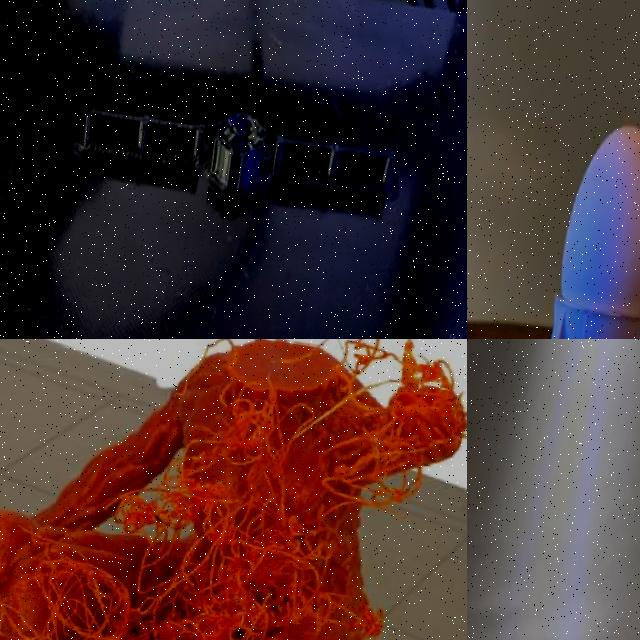spaghetti: (0, 339, 467, 640)
